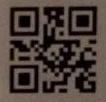qrcode: (10, 7, 98, 94)
